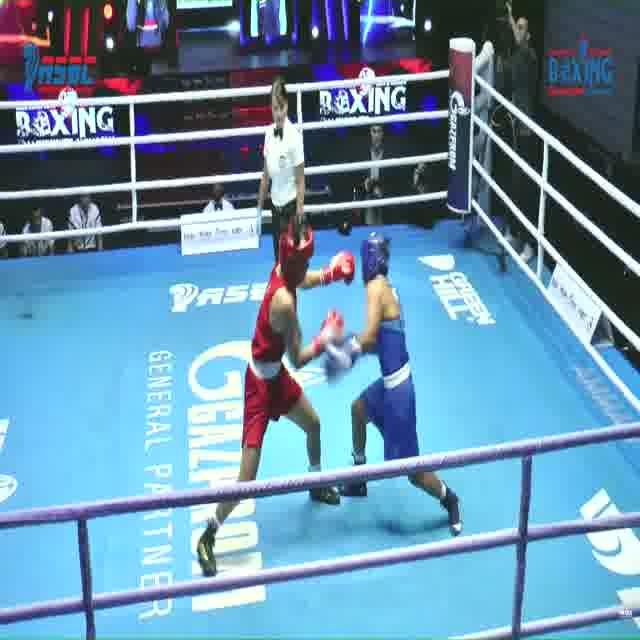blue-player: (322, 234, 464, 540)
red-player: (193, 215, 362, 582)
referee: (246, 69, 308, 358)
